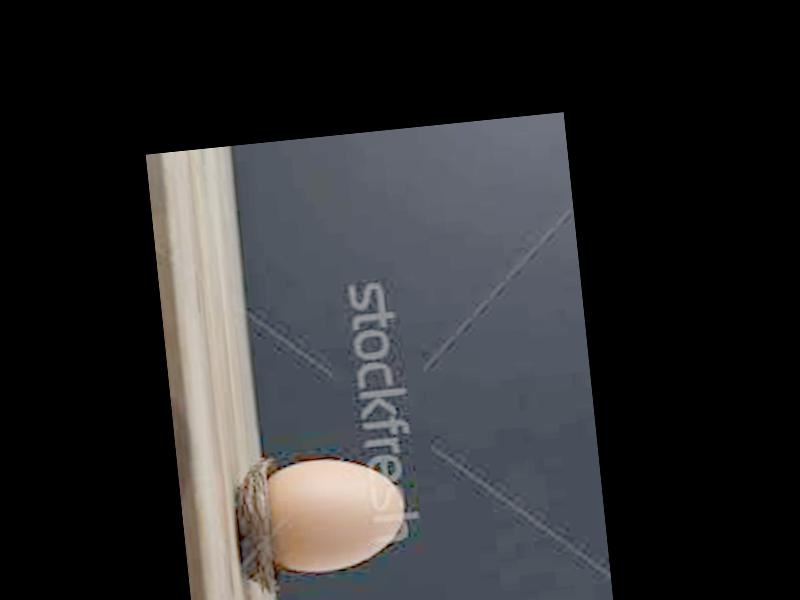Eggs: (262, 454, 408, 577)
